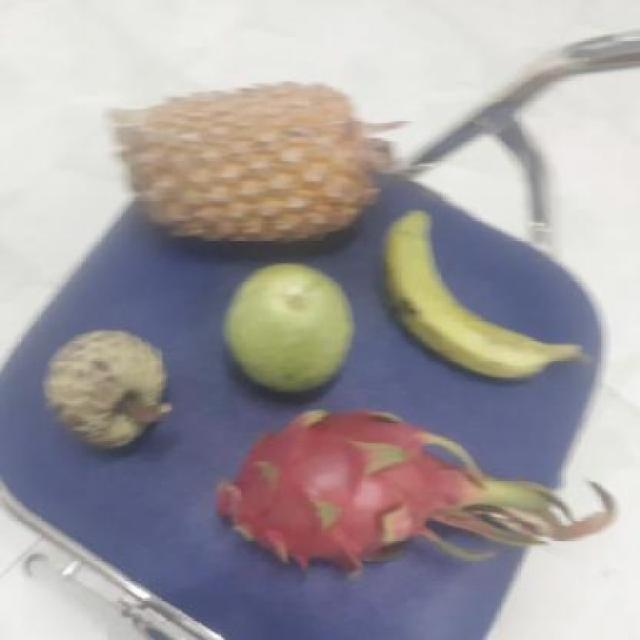dragon fruit: (208, 410, 471, 575)
guava: (219, 263, 353, 399)
sugar apple: (43, 331, 169, 448)
